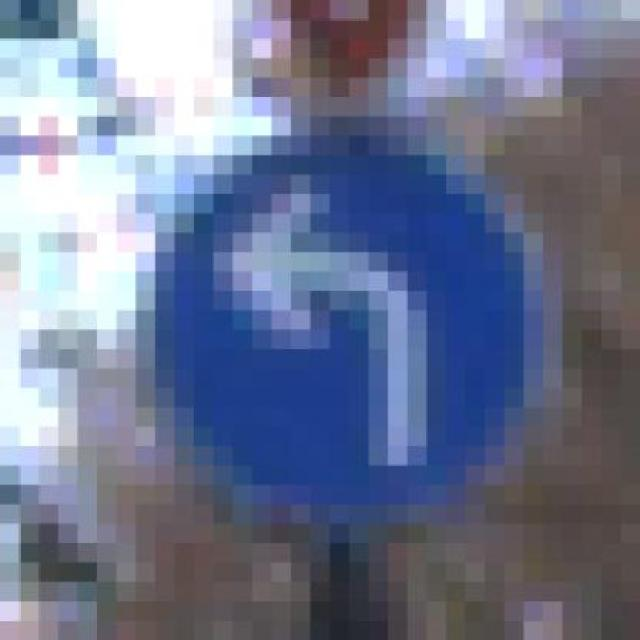Turn left ahead: (116, 116, 544, 544)
